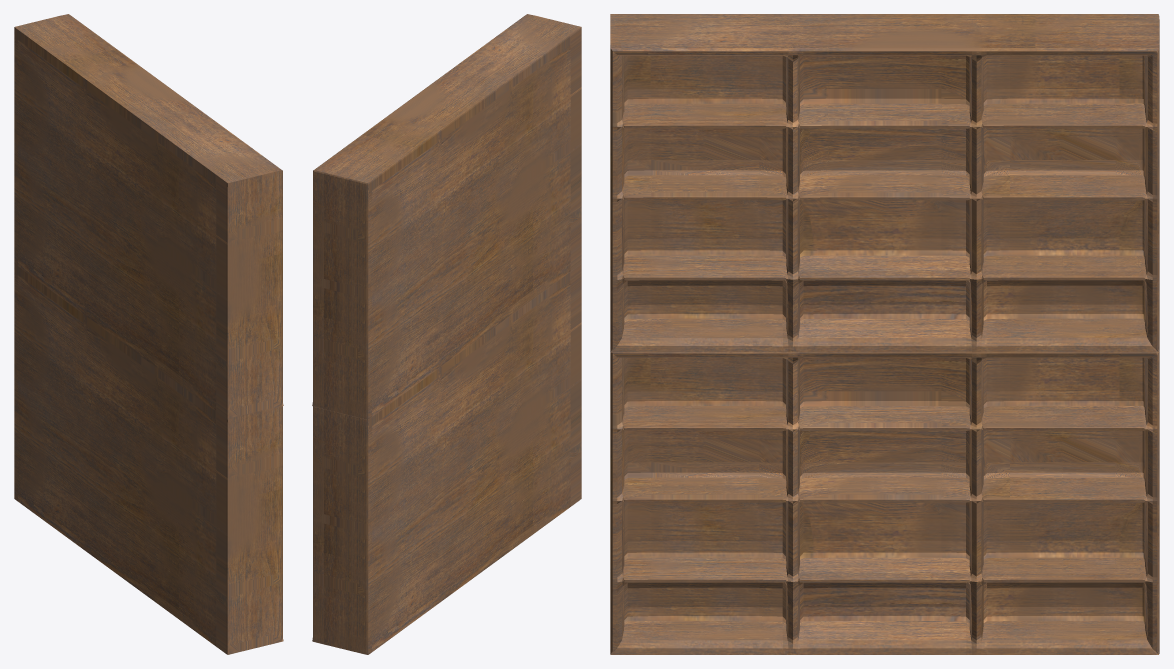
Rendered from Bookcase01.fbx.
The picture shows the model from 3 angles, left to right: view 1: azimuth 30°, elevation 25°; view 2: azimuth 150°, elevation 25°; view 3: azimuth 270°, elevation 25°; orthographic projection. The views are drawn at different scales.
Parts seen in each view (by area): view 1: Bookcase01; view 2: Bookcase01; view 3: Bookcase01.
Boxes of the visible parts, x1,y1,x2,y2 form: Bookcase01: (14,14,283,654); Bookcase01: (312,14,581,654); Bookcase01: (610,14,1159,654).
Size of the model in its own units: 91.44 by 730 by 600.
